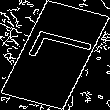L_E: (15, 32, 95, 78)
